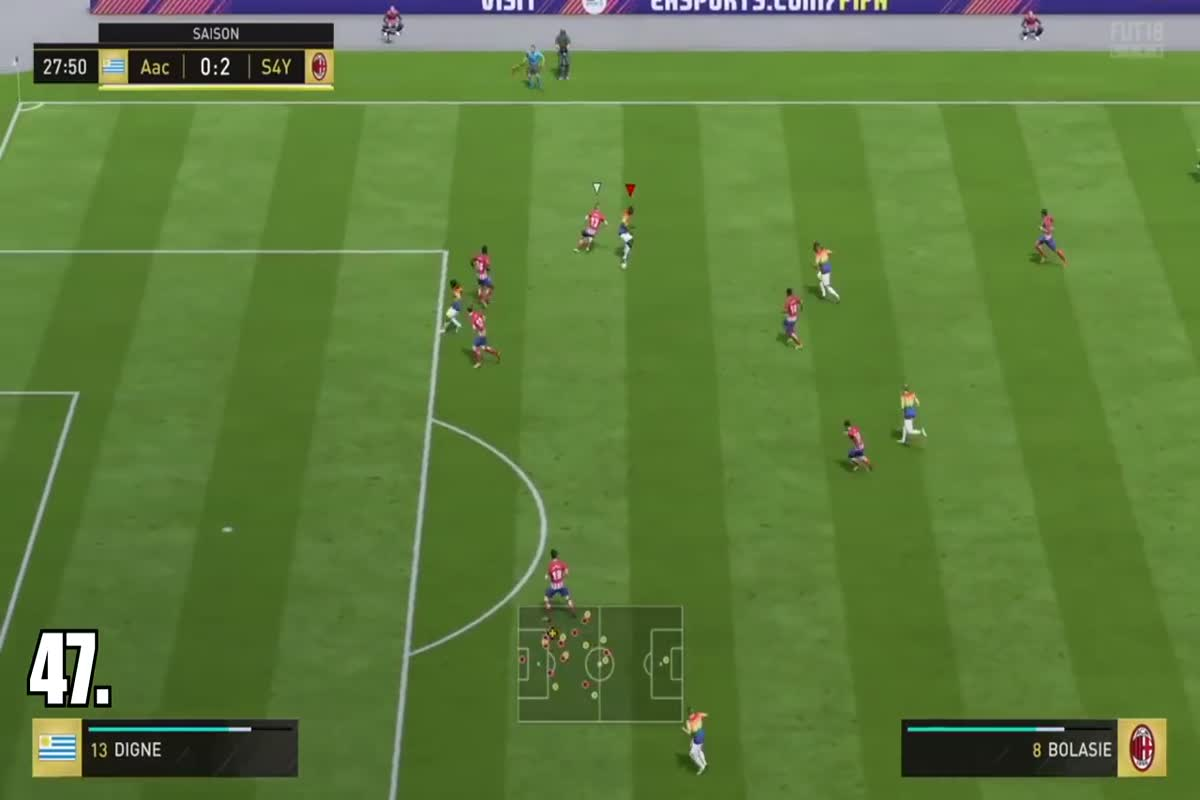ball: (617, 255, 638, 276)
